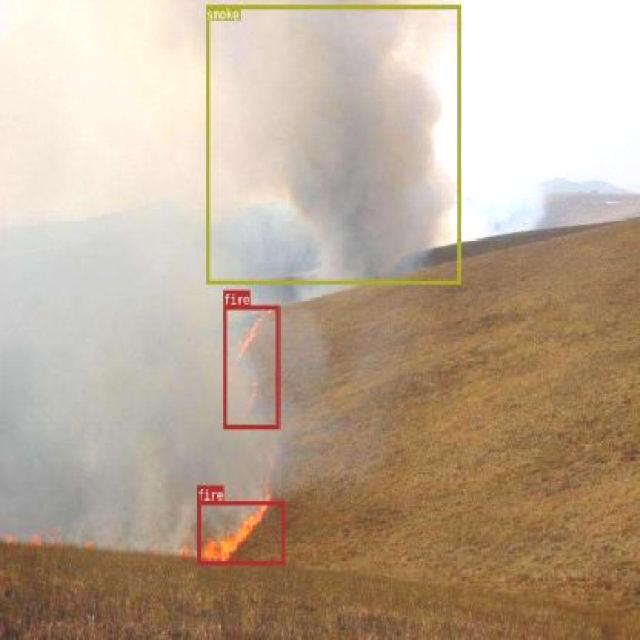fire: (224, 304, 278, 428), (196, 499, 284, 564)
smoke: (206, 5, 460, 284)
